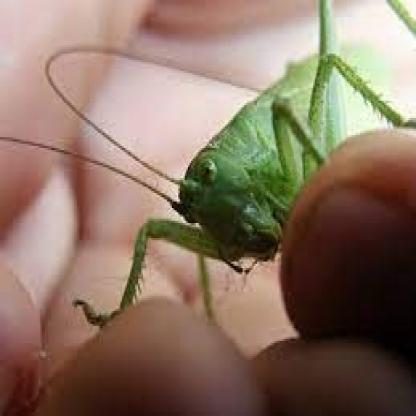grasshopper: (2, 0, 416, 317)
